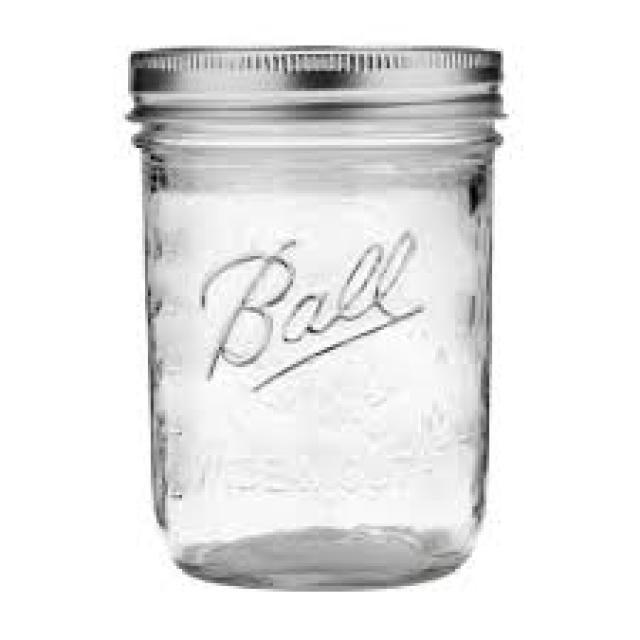Dry Waste: (118, 39, 512, 596)
